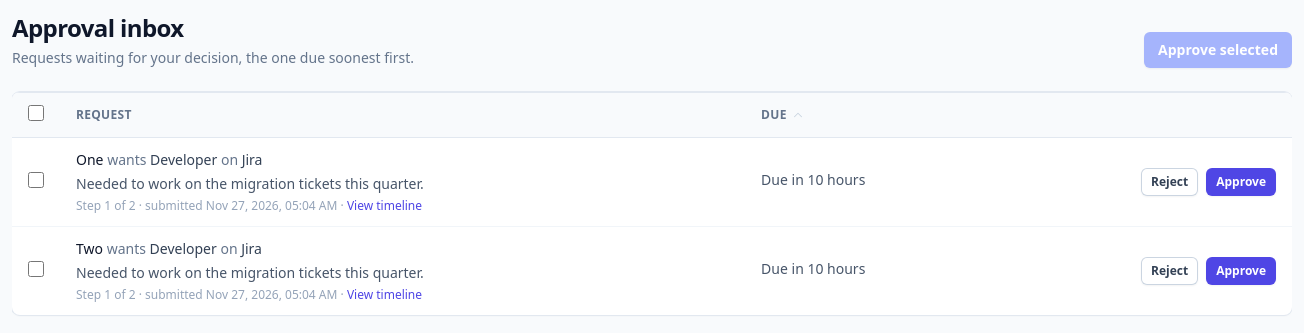
Test: Approval inbox › select-all toggles every visible row
This screenshot has width=1304, height=333.
Expected: the text "One" is shown, [76, 150, 104, 169]
Click the checkbox named "Select all": (36, 113) [28, 105, 44, 121]
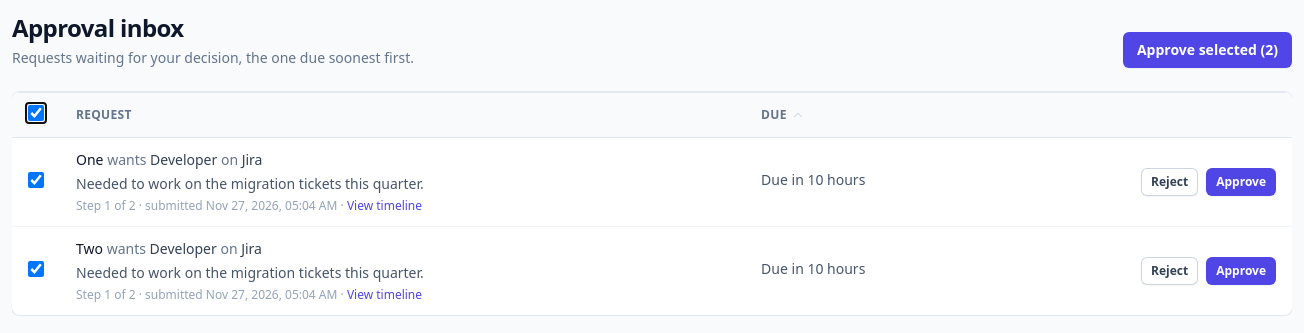
Result: the button "Approve selected (2)" is enabled at [1123, 32, 1292, 68]
Click the checkbox named "Select all": (36, 113) [28, 105, 44, 121]
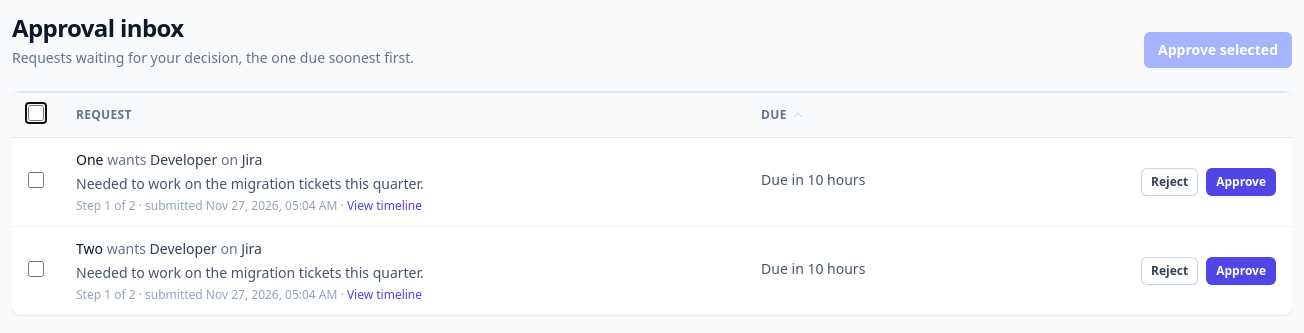
Result: the button "Approve selected" is disabled at [1144, 32, 1292, 68]
